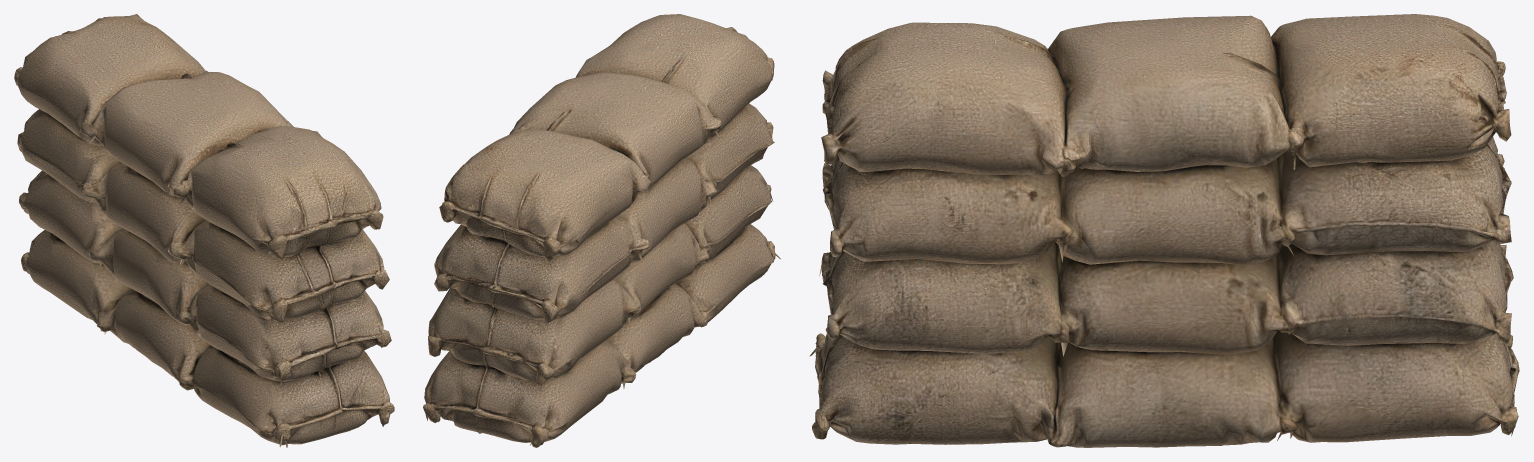
Rendered from sandbag_wall.glb.
The picture shows the model from 3 angles, left to right: view 1: azimuth 30°, elevation 25°; view 2: azimuth 150°, elevation 25°; view 3: azimuth 270°, elevation 25°; orthographic projection. The views are drawn at different scales.
Visible parts, largest first — view 1: tripo_node_2c075ffb-23db-4882-8e98-180eddec8b78; view 2: tripo_node_2c075ffb-23db-4882-8e98-180eddec8b78; view 3: tripo_node_2c075ffb-23db-4882-8e98-180eddec8b78.
Boxes of the visible parts, x1=… form: tripo_node_2c075ffb-23db-4882-8e98-180eddec8b78: x1=14, y1=14, x2=394, y2=447; tripo_node_2c075ffb-23db-4882-8e98-180eddec8b78: x1=423, y1=14, x2=780, y2=447; tripo_node_2c075ffb-23db-4882-8e98-180eddec8b78: x1=809, y1=14, x2=1519, y2=447.
Bounding box in the file's own units: 0.7182 × 1.1 × 1.9.
1 material, 1 textured.
